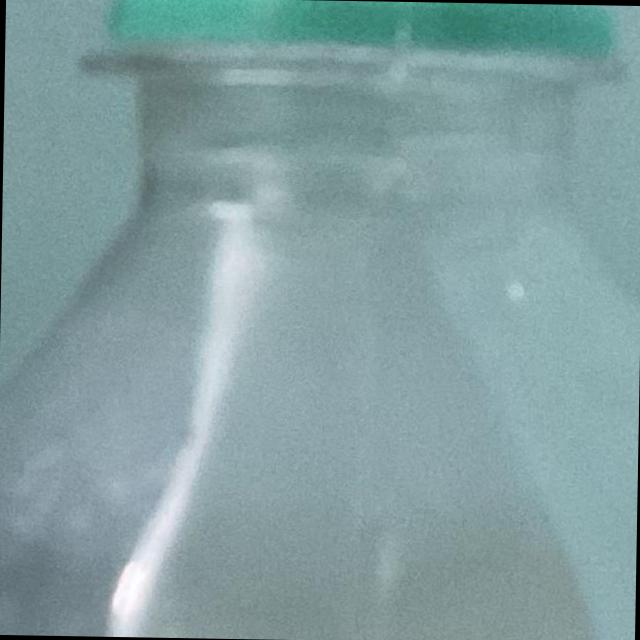open-cap: (127, 0, 628, 79)
